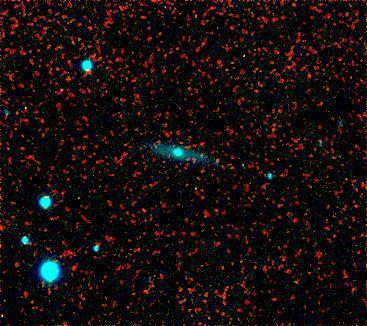star: (186, 144, 216, 174)
